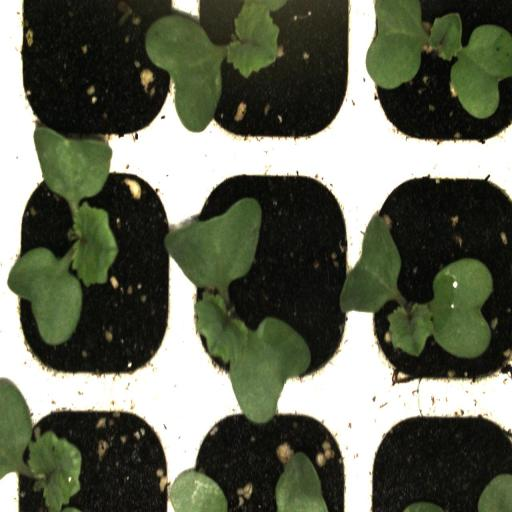Folha: (387, 258, 493, 359), (0, 383, 82, 512), (340, 216, 401, 314), (275, 452, 328, 512), (169, 468, 228, 512)
Germinacao: (182, 157, 360, 394), (12, 152, 181, 395), (359, 156, 512, 396), (181, 0, 358, 154), (359, 0, 512, 156)
